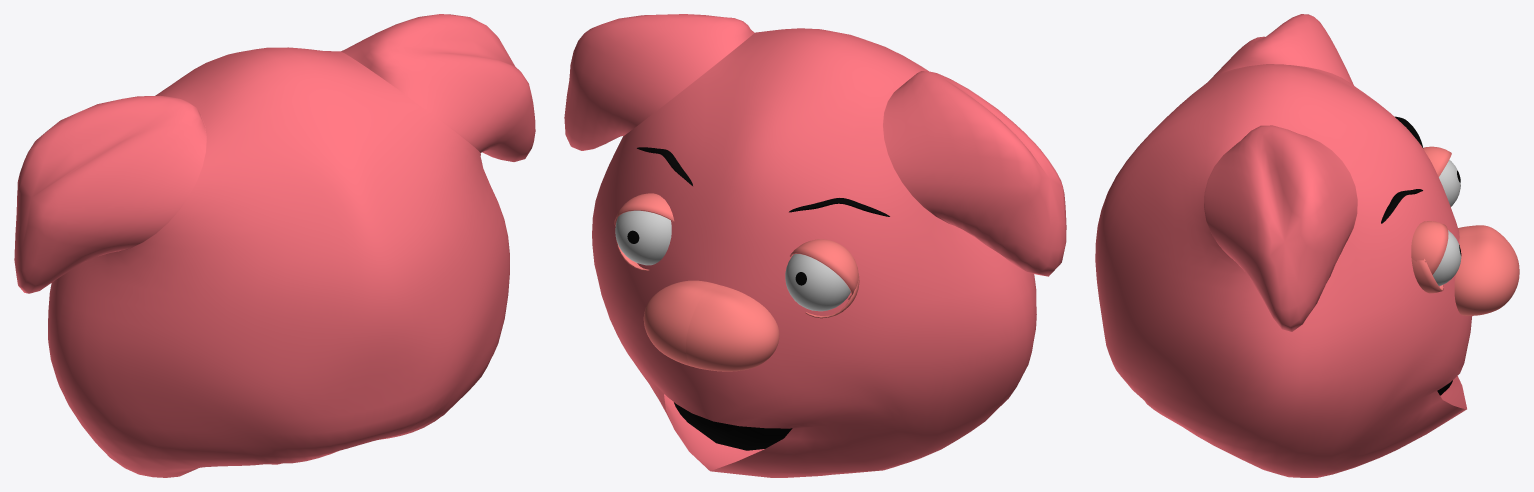
File: [2]jawDrop.obj
3 renders of one model, left to right at view 1: azimuth 30°, elevation 25°; view 2: azimuth 150°, elevation 25°; view 3: azimuth 270°, elevation 25°, orthographic. The views are drawn at different scales.
Parts seen in each view (by area): view 1: Head_Roundcube; view 2: Head_Roundcube, Head.002_Roundcube.002, Eyeball.001_Sphere.005, Eyeball_Sphere, Mball_Mball.001, Eyelid_Bottom_Left.003_Sphere.011, Head.001_Roundcube.001, Eyelid_Bottom_Left.002_Sphere.009; view 3: Head_Roundcube, Head.002_Roundcube.002, Eyelid_Bottom_Left.002_Sphere.009, Eyeball_Sphere, Eyeball.001_Sphere.005, Eyelid_Bottom_Left_Sphere.003, Head.001_Roundcube.001, Eyelid_Bottom_Left.003_Sphere.011.
Part boxes in pixels (left/top/right/bottom): Head_Roundcube: left=14, top=14, right=535, bottom=477; Head_Roundcube: left=564, top=14, right=1066, bottom=477; Head.002_Roundcube.002: left=643, top=280, right=779, bottom=371; Eyeball.001_Sphere.005: left=785, top=254, right=850, bottom=311; Eyeball_Sphere: left=615, top=210, right=671, bottom=265; Mball_Mball.001: left=674, top=402, right=792, bottom=450; Eyelid_Bottom_Left.003_Sphere.011: left=790, top=239, right=858, bottom=299; Head.001_Roundcube.001: left=637, top=147, right=889, bottom=216; Eyelid_Bottom_Left.002_Sphere.009: left=614, top=193, right=674, bottom=226; Head_Roundcube: left=1095, top=14, right=1472, bottom=477; Head.002_Roundcube.002: left=1454, top=225, right=1519, bottom=315; Eyelid_Bottom_Left.002_Sphere.009: left=1411, top=221, right=1448, bottom=274; Eyeball_Sphere: left=1432, top=230, right=1461, bottom=286; Eyeball.001_Sphere.005: left=1439, top=160, right=1460, bottom=206; Eyelid_Bottom_Left_Sphere.003: left=1411, top=259, right=1443, bottom=293; Head.001_Roundcube.001: left=1381, top=116, right=1423, bottom=223; Eyelid_Bottom_Left.003_Sphere.011: left=1423, top=146, right=1451, bottom=176.
Bounding box in the file's own units: 3.92 × 3.03 × 3.16.
